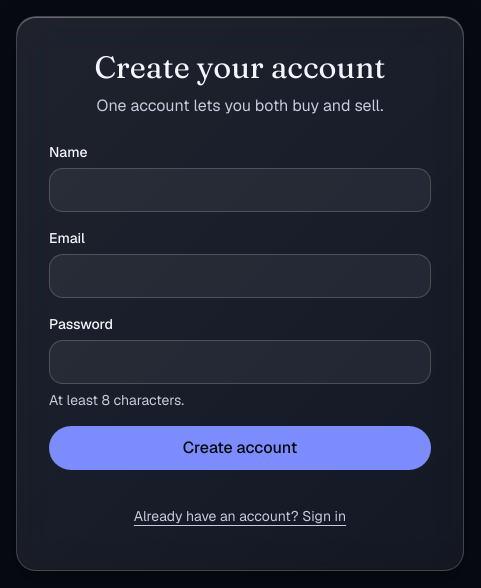
Test case: AuthForm › asks a new user to check their email
The image size is (481, 588).
Type "Ada" into the field labelled "Name" at {"x": 240, "y": 190}, box [49, 168, 431, 212]
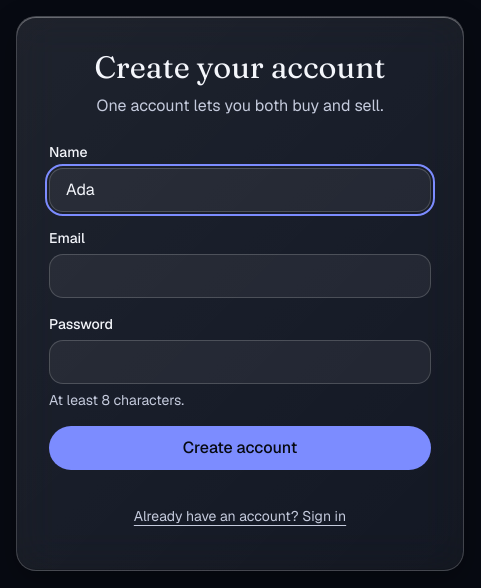
Type "new@example.com" into the field labelled "Email" at {"x": 240, "y": 276}, box [49, 254, 431, 298]
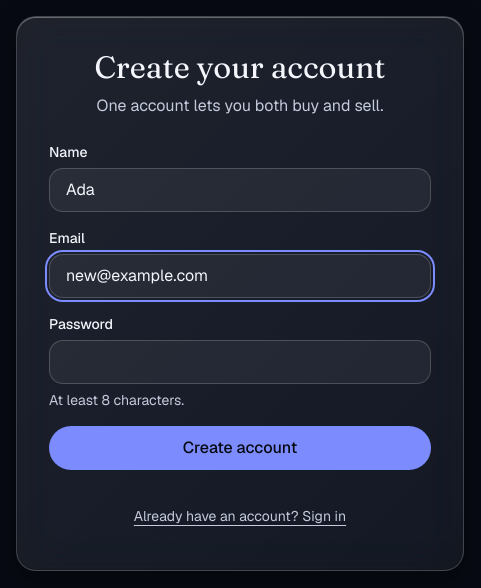
Type "a-good-password" into the password field labelled "Password" at {"x": 240, "y": 362}, box [49, 340, 431, 384]
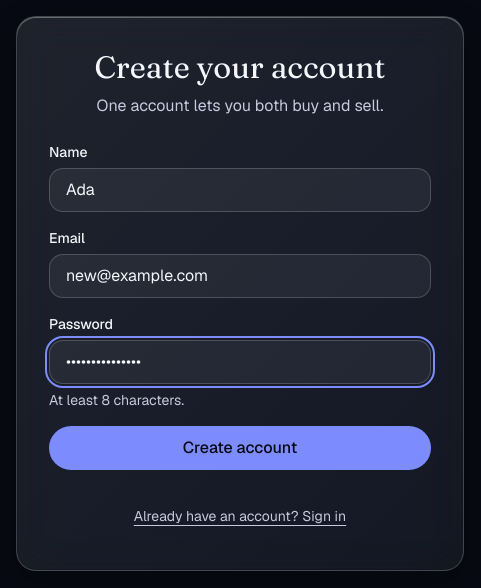
Click the button "Create account" at {"x": 240, "y": 448}, box [49, 426, 431, 470]
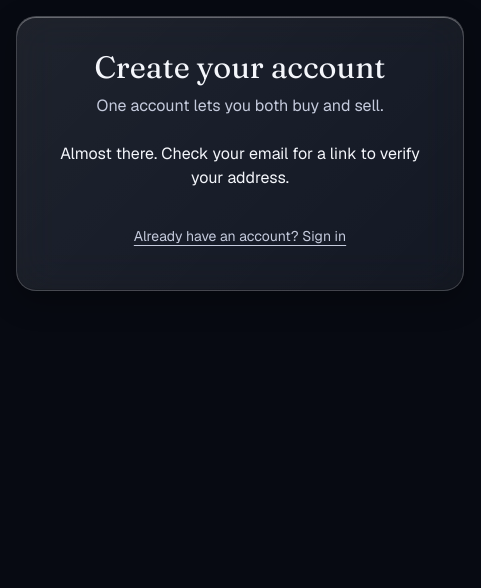
Expected: the message reads "Almost there. Check your email for a link to verify your address.", [60, 143, 420, 188]
